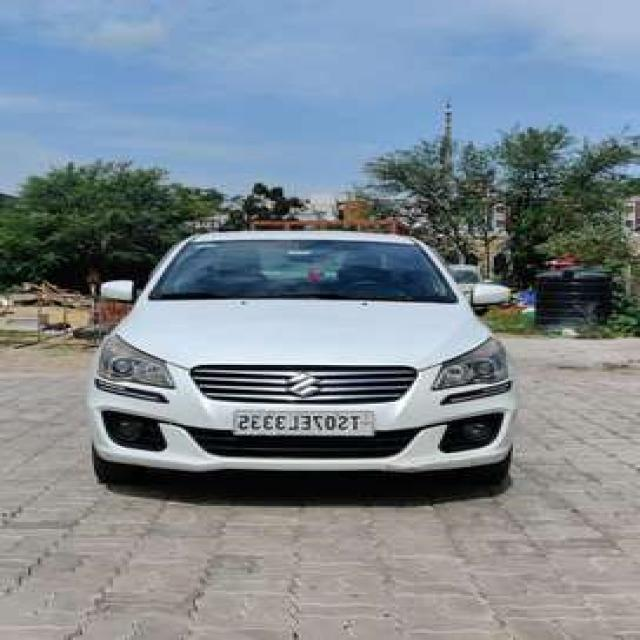license_plate: (230, 408, 379, 438)
